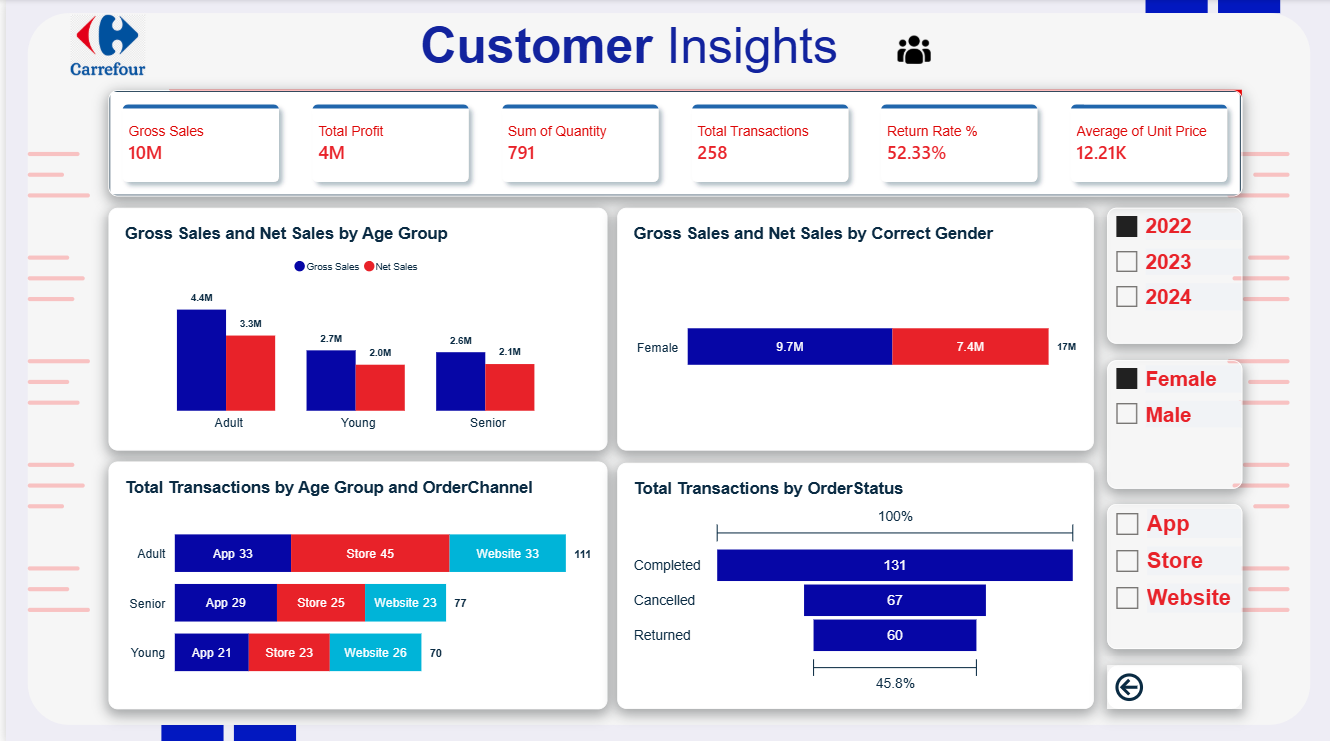

What the dashboard file says about the page in this screenshot:
{"tool":"powerbi","page":{"name":"Customer Insights","canvas":[1280,720],"ordinal":2},"visuals":[{"type":"cardVisual","fields":{"Data":["Sheet1.Measuer 1","Sheet1.Total Profit","Sum(Sheet1.Quantity)","Sheet1.Total Transactions","Sheet1.Return Rate %","Avg(Sheet1.Unit Price)"]},"box":[0,88.4,1258,129],"z":0},{"type":"clusteredColumnChart","fields":{"Category":["Sheet1.Age Group"],"Y":["Sheet1.Total Renenue","Sheet1.Net Sales"]},"box":[0,229.2,520.1,234.6],"z":1000},{"type":"barChart","fields":{"Category":["Sheet1.Correct Gender"],"Y":["Sheet1.Total Renenue","Sheet1.Net Sales"]},"box":[529.7,229.2,520.1,234.6],"z":2000},{"type":"barChart","fields":{"Category":["Sheet1.Age Group"],"Series":["Sheet1.OrderChannel"],"Y":["Sheet1.Total Transactions"]},"box":[0,473.4,520.1,247],"z":3000},{"type":"funnel","fields":{"Category":["Sheet1.OrderStatus"],"Y":["Sheet1.Total Transactions"]},"box":[529.7,473.4,520.1,247],"z":4000},{"type":"slicer","fields":{"Values":["Sheet1.OrderDate.Variation.Date Hierarchy.Year"]},"box":[1063.5,229.2,194.9,130.4],"z":5000},{"type":"textbox","box":[222.3,9.6,758.8,65.9],"z":6000},{"type":"actionButton","box":[1063.5,669.6,194.9,50.8],"z":7000},{"type":"image","box":[834.3,6.9,83.7,64.5],"z":8000},{"type":"image","box":[0,0,197.1,88.4],"z":9000},{"type":"slicer","fields":{"Values":["Sheet1.OrderChannel"]},"box":[1063.5,522.8,194.9,137.2],"z":10000},{"type":"slicer","fields":{"Values":["Sheet1.Correct Gender"]},"box":[1063.5,378.7,194.9,130.4],"z":11000}]}

Visuals, with their boxes in screenshot pixels (x1, y1, x2, y2), scaled from the page's 1280x720 canvas onto the 1330x741 screenshot:
cardVisual - Sheet1.Measuer 1 x Sheet1.Total Profit: pyautogui.locateOnScreen(0, 91, 1307, 224)
clusteredColumnChart - Sheet1.Age Group x Sheet1.Total Renenue: pyautogui.locateOnScreen(0, 236, 540, 477)
barChart - Sheet1.Correct Gender x Sheet1.Total Renenue: pyautogui.locateOnScreen(550, 236, 1091, 477)
barChart - Sheet1.Age Group x Sheet1.OrderChannel: pyautogui.locateOnScreen(0, 487, 540, 740)
funnel - Sheet1.OrderStatus x Sheet1.Total Transactions: pyautogui.locateOnScreen(550, 487, 1091, 740)
slicer - Sheet1.OrderDate.Variation.Date Hierarchy.Year: pyautogui.locateOnScreen(1105, 236, 1308, 370)
textbox: pyautogui.locateOnScreen(231, 10, 1019, 78)
actionButton: pyautogui.locateOnScreen(1105, 689, 1308, 740)
image: pyautogui.locateOnScreen(867, 7, 954, 73)
image: pyautogui.locateOnScreen(0, 0, 205, 91)
slicer - Sheet1.OrderChannel: pyautogui.locateOnScreen(1105, 538, 1308, 679)
slicer - Sheet1.Correct Gender: pyautogui.locateOnScreen(1105, 390, 1308, 524)
